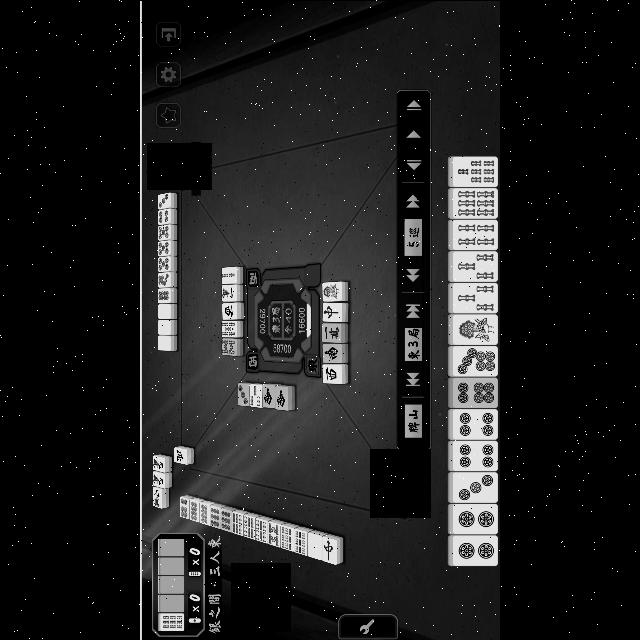1m: (220, 282, 243, 300), (322, 324, 342, 342)
1s: (453, 313, 499, 343), (323, 282, 341, 300)
2p: (452, 503, 496, 533), (454, 535, 496, 565)
2s: (220, 266, 244, 284)
3p: (453, 473, 497, 501), (156, 192, 178, 208), (236, 380, 250, 404)
3s: (452, 250, 498, 280), (452, 282, 496, 312), (248, 381, 262, 407)
4p: (452, 408, 498, 438), (453, 439, 497, 469), (157, 208, 177, 225)
4s: (454, 220, 498, 248)
5p: (156, 223, 176, 240), (156, 256, 177, 270), (157, 240, 177, 254)
5s: (220, 320, 244, 338)
6p: (453, 376, 497, 406), (180, 494, 192, 518)
6s: (452, 186, 496, 218), (254, 515, 270, 541), (242, 514, 258, 538), (231, 511, 245, 534)
7p: (452, 344, 498, 374), (157, 270, 175, 286)
7s: (454, 154, 498, 186)
8p: (157, 286, 179, 304), (190, 497, 202, 521), (200, 501, 212, 524)
8s: (158, 610, 186, 630), (221, 336, 243, 356), (266, 520, 282, 544), (294, 526, 308, 552), (281, 523, 293, 549)
9m: (152, 472, 172, 486), (152, 456, 172, 470), (151, 488, 165, 507)
9p: (219, 506, 233, 530), (209, 504, 221, 528)
chun: (321, 536, 343, 564), (322, 303, 342, 319)
haku: (157, 334, 179, 351), (309, 530, 323, 556), (156, 319, 178, 333), (156, 304, 178, 318)
nan: (275, 384, 291, 408), (262, 380, 274, 408), (323, 344, 341, 360)
pe: (173, 446, 195, 464)
sha: (220, 302, 242, 321), (323, 364, 342, 382)
